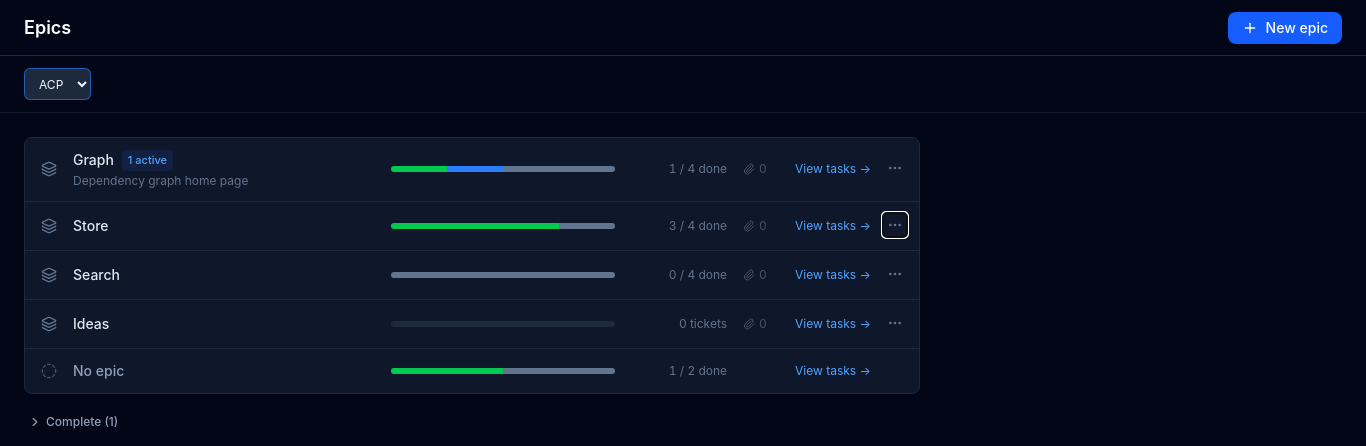
Scenario: Epics rows › closes the row menu when focus moves outside it, so only one is ever open
The image size is (1366, 446).
Click the button named "Actions for Store" at (895, 224), box [883,212,907,236]
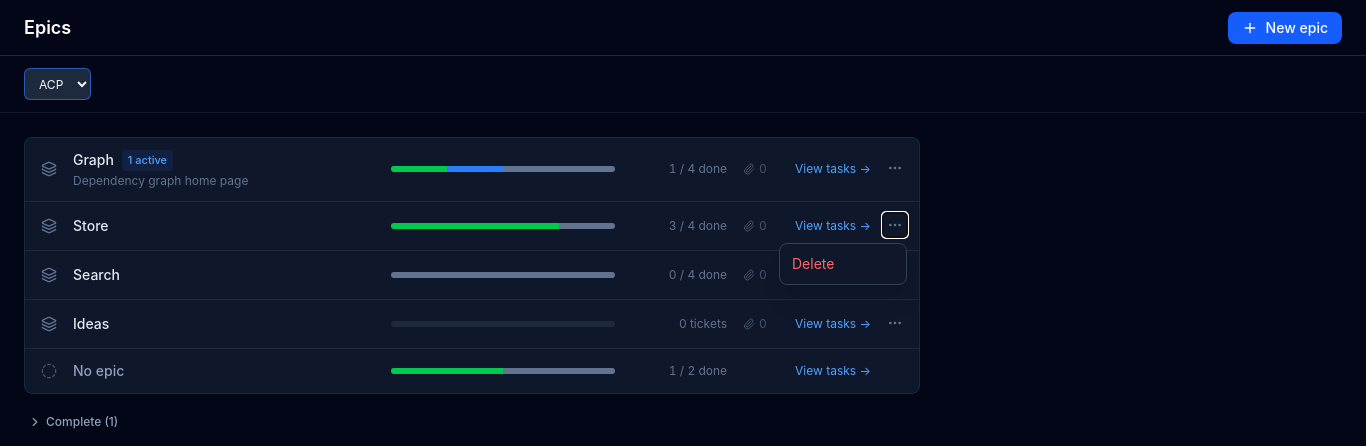
// Moving from ⋯ into the panel keeps it open.
Leave the button named "Actions for Store", box [883,212,907,236]
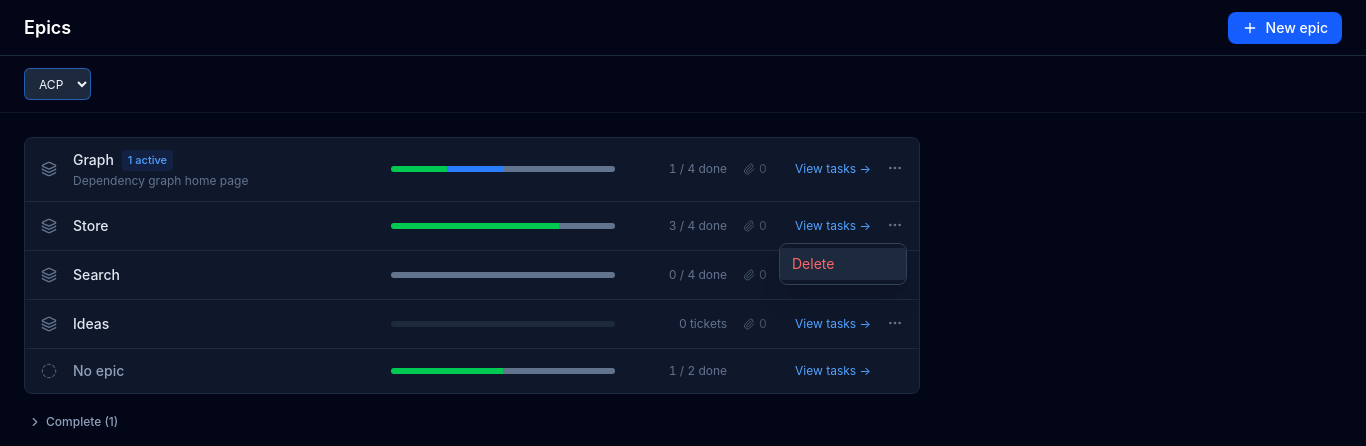
Expected: the button named "Actions for Store" is expanded, [883,212,907,236]
// Tabbing on to the next row's ⋯ closes it.
Leave the button "Delete", box [780,248,906,280]
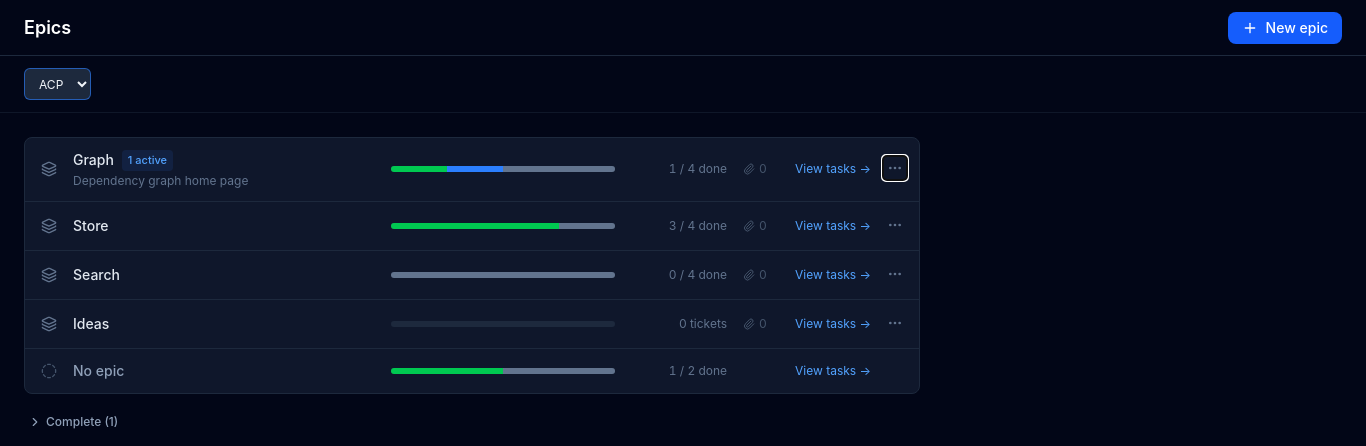
Click the button named "Actions for Graph" at (895, 168), box [883,156,907,180]
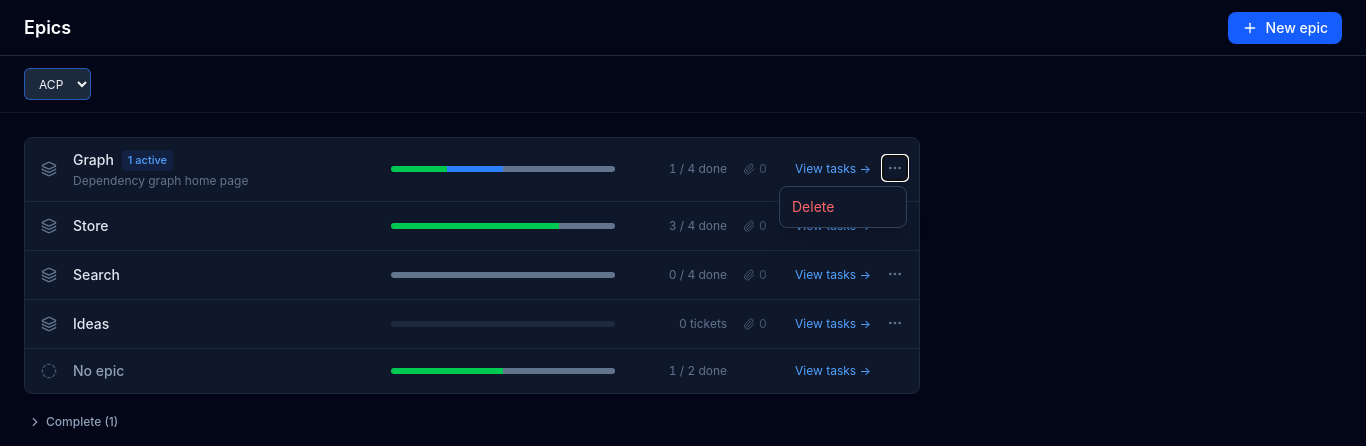
Expected: the number of buttons "Delete" is 1, [780,191,906,223]
